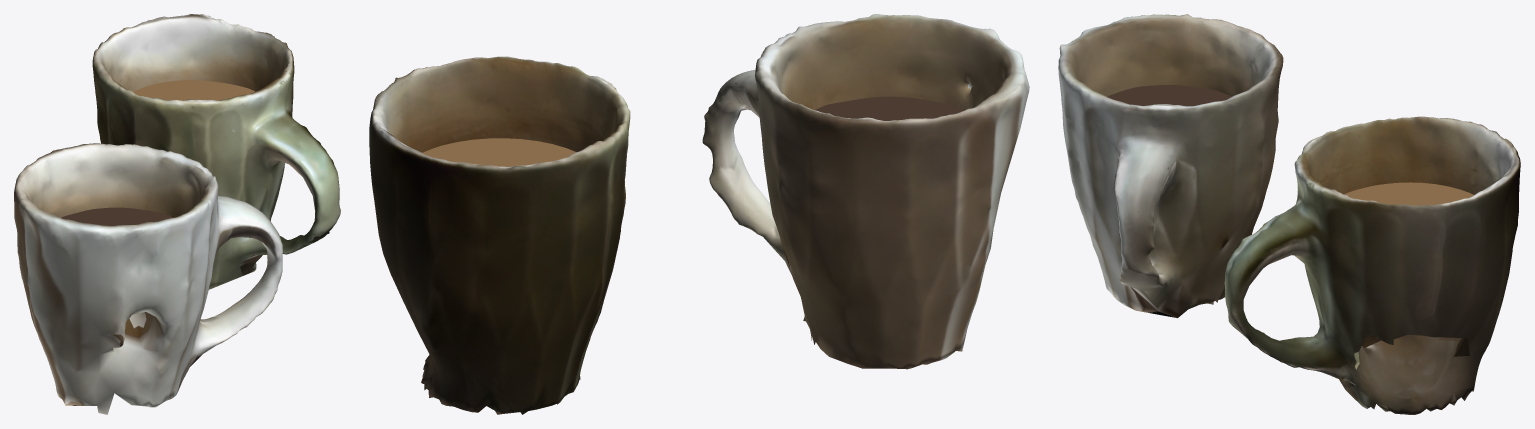
Rendered from stair_mugs.glb.
3 renders of one model, left to right at view 1: azimuth 30°, elevation 25°; view 2: azimuth 150°, elevation 25°; view 3: azimuth 270°, elevation 25°, orthographic. The views are drawn at different scales.
Parts seen in each view (by area): view 1: scan; view 2: scan; view 3: scan.
Part boxes in pixels (x1=…): scan: x1=14, y1=14, x2=340, y2=414; scan: x1=369, y1=14, x2=1029, y2=414; scan: x1=1058, y1=14, x2=1520, y2=414.
Bounding box in the file's own units: 0.1846 × 0.102 × 0.1855.
3 materials, 1 textured.
